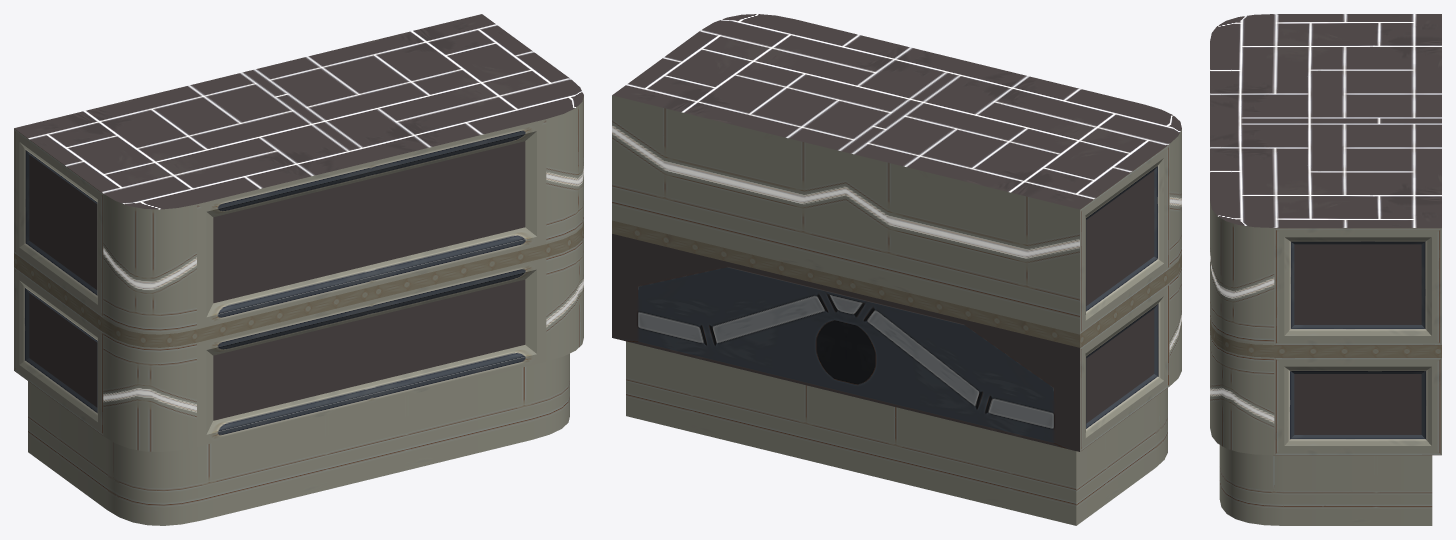
The model's file is KF_SM_XBuilding011.fbx.
The picture shows the model from 3 angles, left to right: view 1: azimuth 30°, elevation 25°; view 2: azimuth 150°, elevation 25°; view 3: azimuth 270°, elevation 25°; orthographic projection. The views are drawn at different scales.
Parts seen in each view (by area): view 1: KF_SM_XBuilding011; view 2: KF_SM_XBuilding011; view 3: KF_SM_XBuilding011.
Part boxes in pixels (x1,y1,x2,y2): KF_SM_XBuilding011: [14, 14, 583, 525]; KF_SM_XBuilding011: [612, 14, 1181, 525]; KF_SM_XBuilding011: [1210, 14, 1441, 525].
Bounding box in the file's own units: 5172 × 3403 × 2368.
